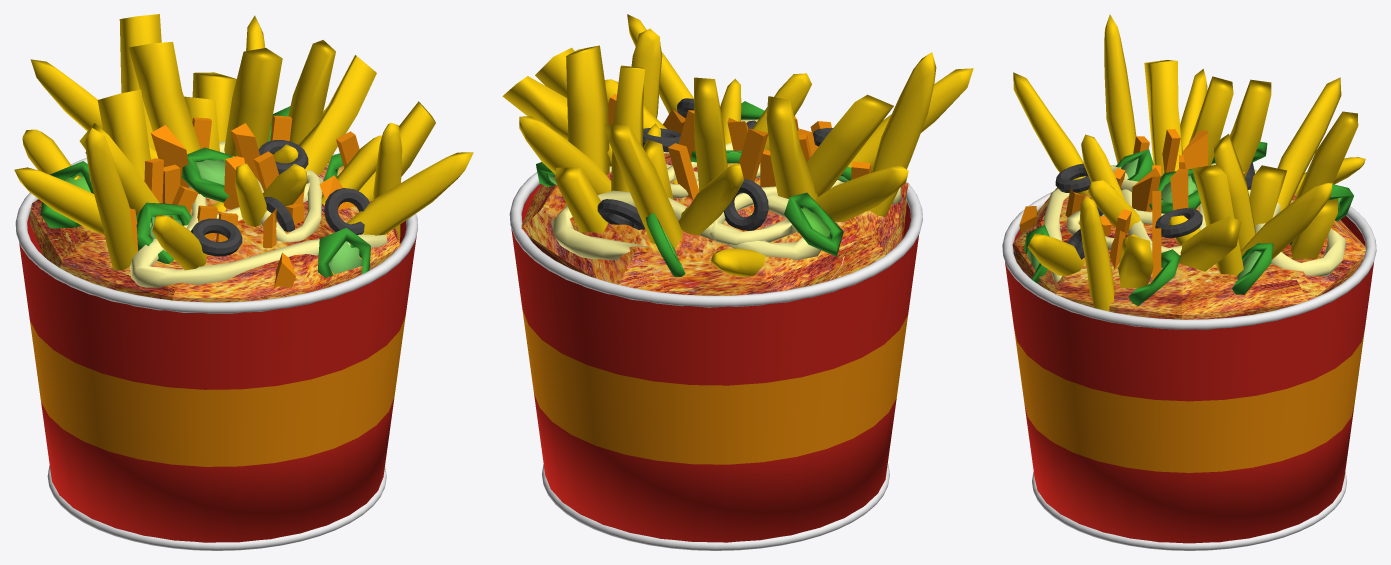
File: fries  7 UNCOOKED  .fbx
3 renders of one model, left to right at view 1: azimuth 30°, elevation 25°; view 2: azimuth 150°, elevation 25°; view 3: azimuth 270°, elevation 25°, orthographic. The views are drawn at different scales.
Visible parts, largest first — view 1: Bucket, Fries, Cube, Myo, Gr.010, Myo.001, Gr.013, Torus, Gr.004, Gr.014, Torus.001, Cube.012 (+7 smaller); view 2: Bucket, Fries, Cube, Myo, Myo.001, Gr.014, Torus.003, Cube.012, Cube.013, Torus.004, Gr.006; view 3: Bucket, Fries, Cube, Myo, Gr.009, Gr.008, Torus.002, Myo.001, Cube.008, Torus, Gr.013, Cube.012 (+6 smaller).
Part boxes in pixels (box(x1,y1,x2,y2)): Bucket: box(15, 153, 417, 550); Fries: box(14, 14, 473, 270); Cube: box(29, 158, 400, 302); Myo: box(86, 141, 387, 287); Gr.010: box(318, 228, 370, 277); Myo.001: box(150, 156, 321, 242); Gr.013: box(136, 202, 191, 263); Torus: box(191, 218, 242, 256); Gr.004: box(181, 147, 232, 202); Gr.014: box(40, 161, 93, 228); Torus.001: box(324, 188, 369, 234); Cube.012: box(151, 125, 189, 187); Bucket: box(509, 172, 922, 550); Fries: box(502, 14, 973, 277); Cube: box(521, 123, 908, 295); Myo: box(551, 119, 901, 260); Myo.001: box(609, 142, 841, 245); Gr.014: box(784, 192, 843, 256); Torus.003: box(724, 178, 768, 230); Cube.012: box(738, 128, 768, 181); Cube.013: box(668, 143, 699, 199); Torus.004: box(597, 199, 644, 229); Gr.006: box(646, 212, 685, 276); Bucket: box(1002, 192, 1376, 550); Fries: box(1013, 14, 1365, 311); Cube: box(1012, 187, 1365, 319); Myo: box(1043, 163, 1346, 282); Gr.009: box(1232, 243, 1273, 294); Gr.008: box(1128, 249, 1180, 306); Torus.002: box(1155, 208, 1202, 237); Myo.001: box(1066, 173, 1255, 265); Cube.008: box(1132, 167, 1160, 211); Torus: box(1055, 163, 1091, 192); Gr.013: box(1115, 149, 1153, 181); Cube.012: box(1182, 130, 1207, 169).
Size of the model in its own units: 0.2608 by 0.2713 by 0.2326.
2 materials, 2 textured.
